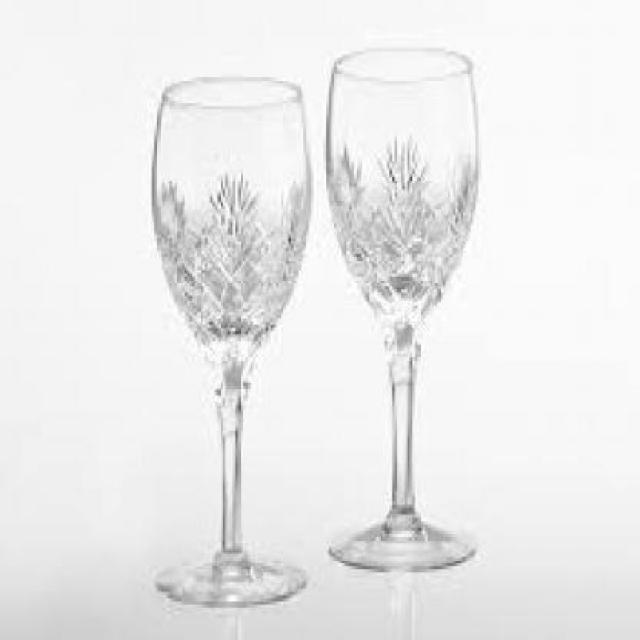kaca: (323, 45, 479, 569), (152, 74, 303, 601)
